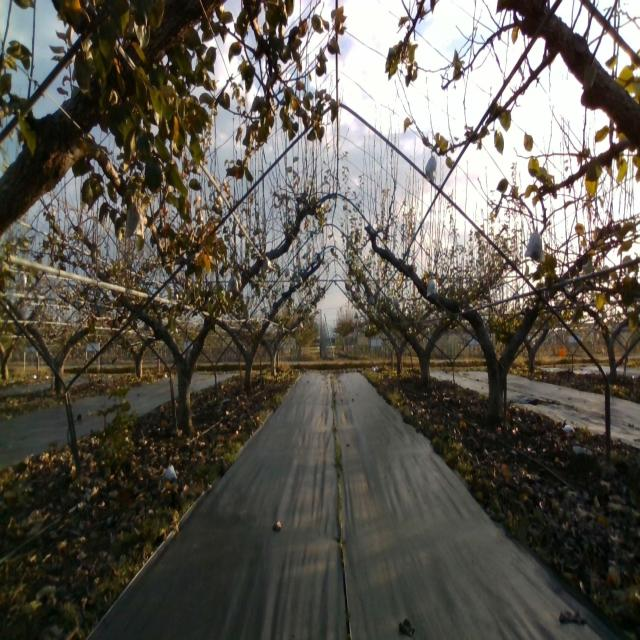pearbags: (124, 198, 144, 239), (524, 226, 542, 264), (425, 150, 437, 184), (425, 275, 438, 297), (227, 273, 240, 294), (262, 256, 272, 274)
